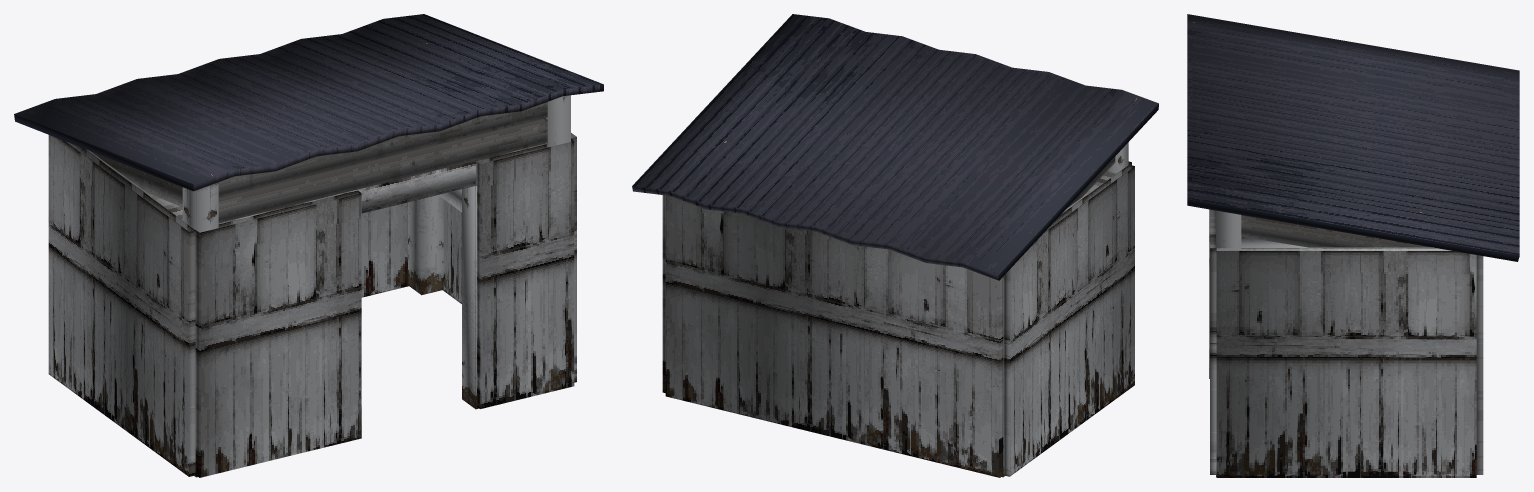
The model's file is shackps1.glb.
3 views of the same model, side by side, from view 1: azimuth 30°, elevation 25°; view 2: azimuth 150°, elevation 25°; view 3: azimuth 270°, elevation 25° (orthographic). The views are drawn at different scales.
Parts seen in each view (by area): view 1: shack; view 2: shack; view 3: shack.
Part boxes in pixels (x1=…): shack: x1=14, y1=14, x2=603, y2=477; shack: x1=632, y1=14, x2=1158, y2=477; shack: x1=1187, y1=14, x2=1519, y2=477.
Bounding box in the file's own units: 3.89 × 2.85 × 2.96.
2 materials, 2 textured.
